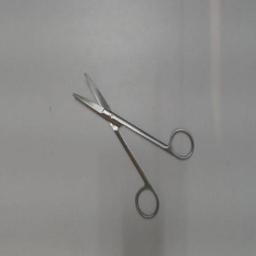Curved Mayo Scissors: (68, 63, 200, 223)
